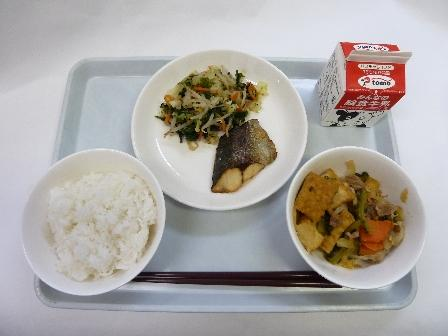Fish: (207, 114, 281, 191)
Milk: (311, 36, 408, 134)
Rice: (26, 151, 164, 294)
salad with sauce: (154, 55, 253, 139)
vegetable based cooked food: (298, 149, 417, 275)
